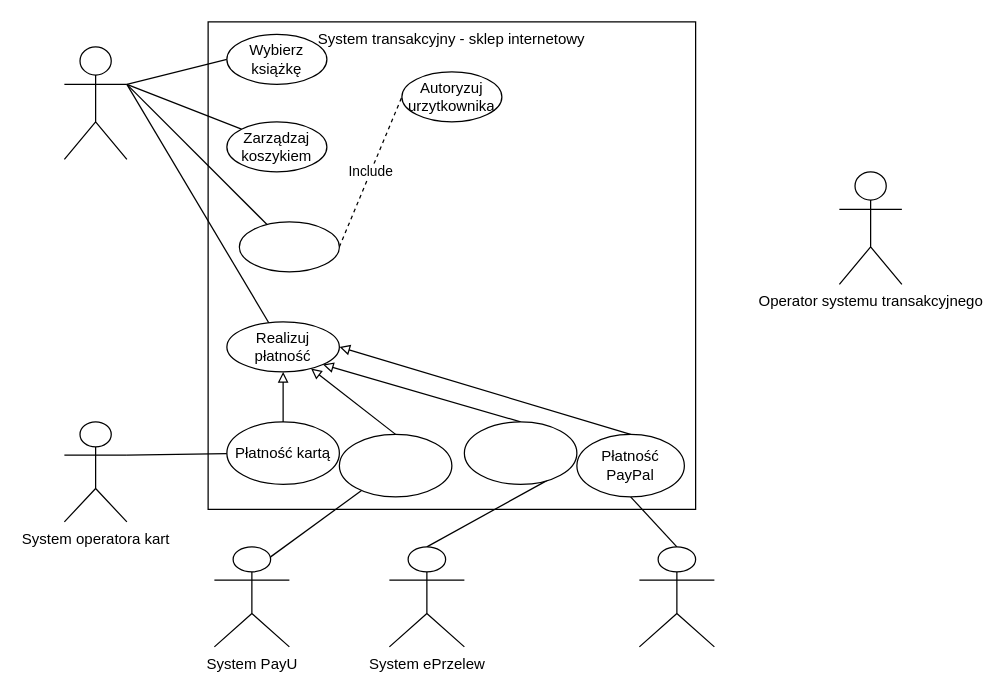
This 1004x695 diagram has some shape labels left out. Here are the shapes that lost their labels. From the top down, the box of each, then its label:
(63, 46, 127, 159): Klient
(238, 221, 339, 272): Złóż zamówienie
(338, 433, 452, 497): Płatność w systemie PayU
(463, 421, 577, 484): Płatność ePrzelewem
(638, 546, 714, 647): System PayPal
